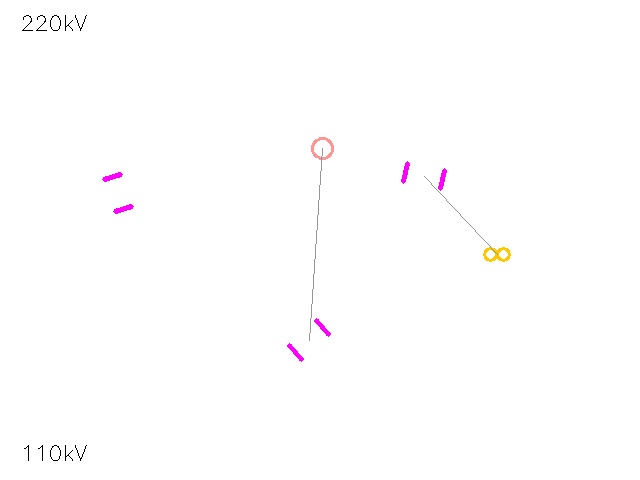capacitor: (278, 309, 340, 371), (393, 145, 455, 207), (90, 165, 146, 221)
transformer_2w: (480, 237, 514, 271)
voltage_transformer: (302, 128, 342, 168)
